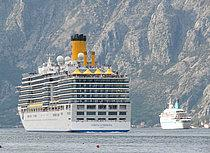Ship: (14, 29, 135, 135), (158, 95, 196, 133)
